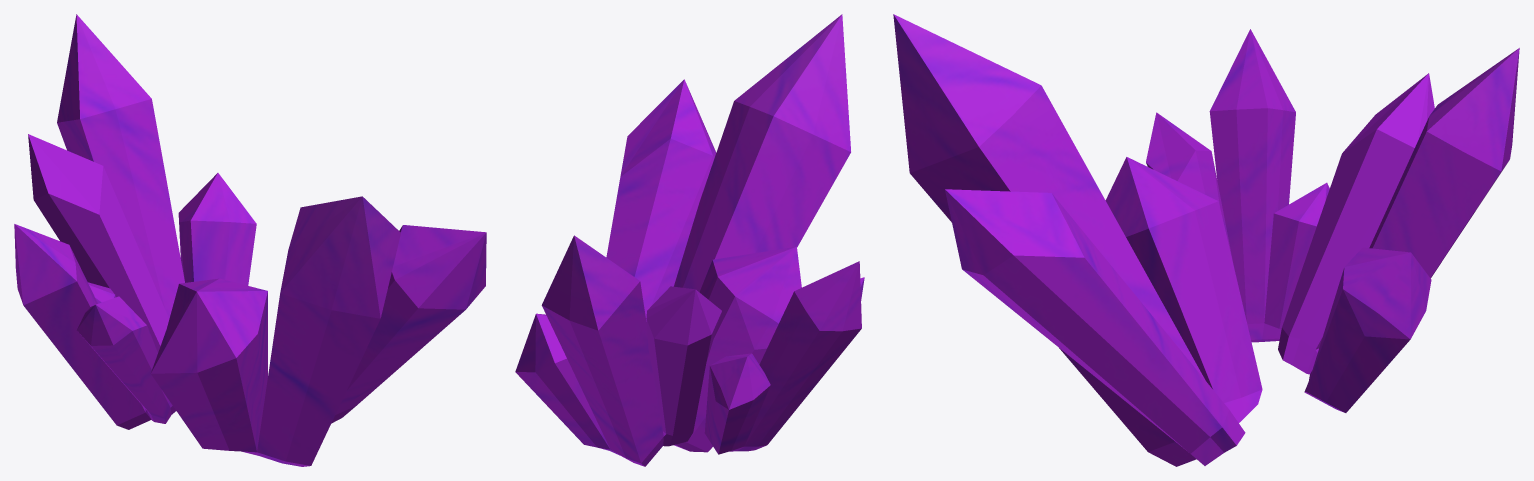
Rendered from amethyst.fbx.
3 renders of one model, left to right at view 1: azimuth 30°, elevation 25°; view 2: azimuth 150°, elevation 25°; view 3: azimuth 270°, elevation 25°, orthographic. The views are drawn at different scales.
Parts seen in each view (by area): view 1: amethyst.002, amethyst, amethyst.001; view 2: amethyst.002, amethyst, amethyst.001; view 3: amethyst.002, amethyst, amethyst.001.
Boxes of the visible parts, x1=… form: amethyst.002: x1=150, y1=196, x2=486, y2=466; amethyst: x1=28, y1=14, x2=256, y2=352; amethyst.001: x1=14, y1=224, x2=175, y2=429; amethyst.002: x1=606, y1=14, x2=850, y2=452; amethyst: x1=515, y1=235, x2=721, y2=466; amethyst.001: x1=704, y1=261, x2=864, y2=454; amethyst.002: x1=893, y1=14, x2=1262, y2=466; amethyst: x1=1278, y1=48, x2=1519, y2=412; amethyst.001: x1=1146, y1=29, x2=1329, y2=342.
Bounding box in the file's own units: 14.32 × 14.5 × 19.8.
